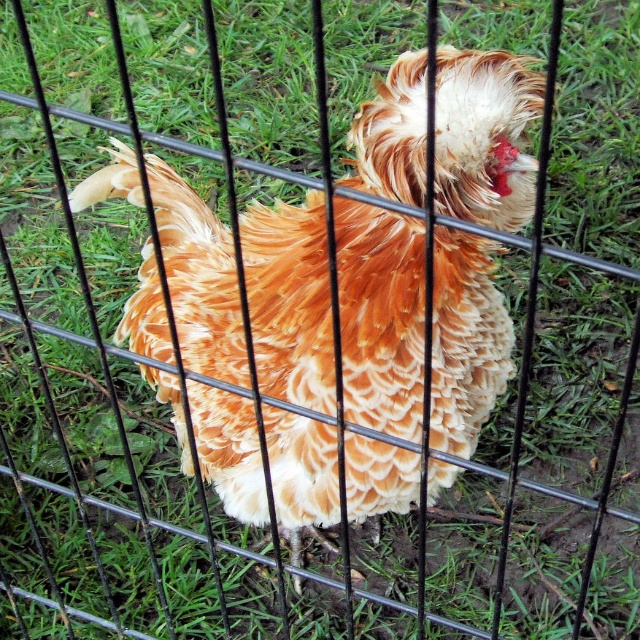Chicken: (115, 35, 535, 530)
